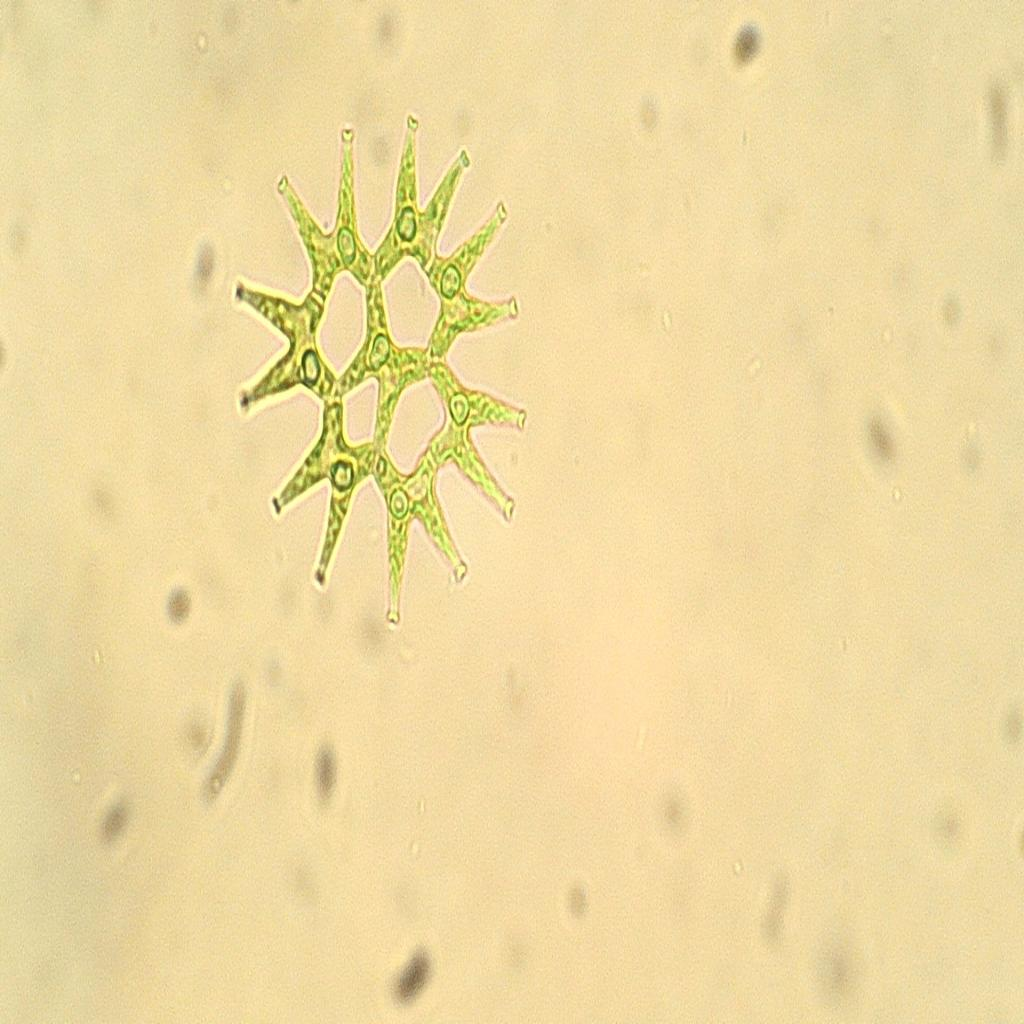Pediastrum_CTH: (220, 105, 550, 640)
